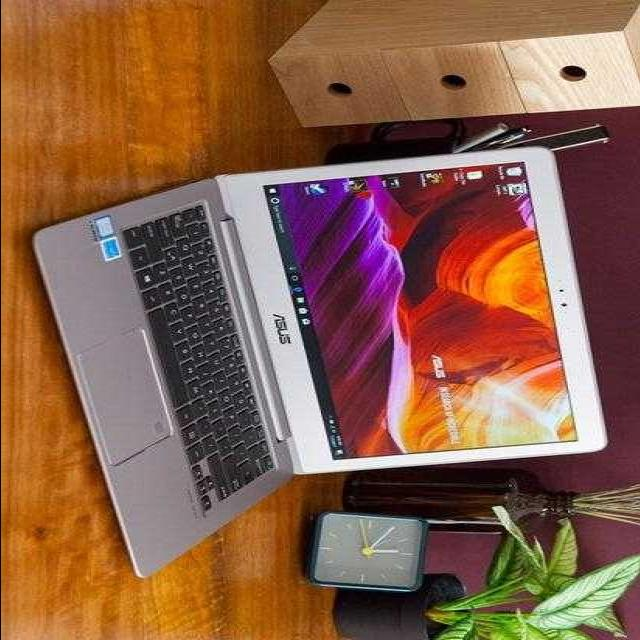laptop: (7, 151, 619, 595)
